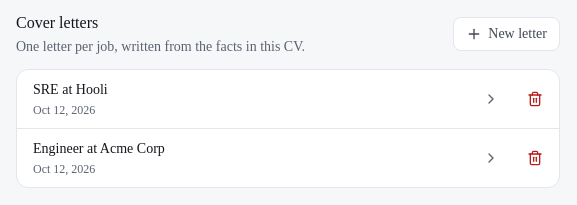
CoverLetterPanel: delete › Undo after the DELETE was sent does nothing
Click the button named "Delete letter for SRE at Hooli" at (535, 99), box x1=519 y1=83 x2=551 y2=115
Wait 6000 ms
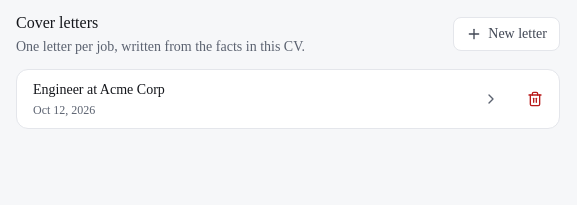
Check: the button "SRE at Hooli" is gone
